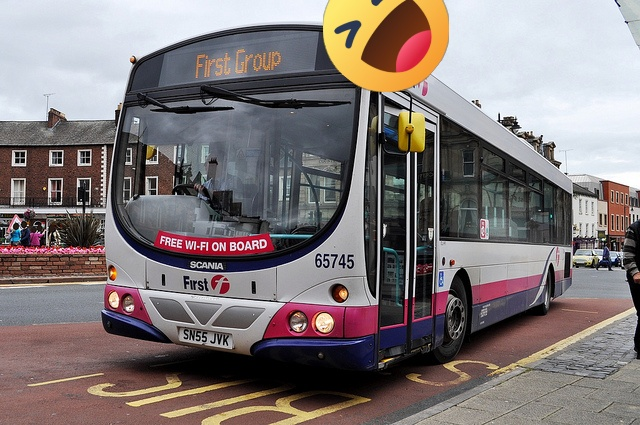haha: (323, 0, 449, 92)
